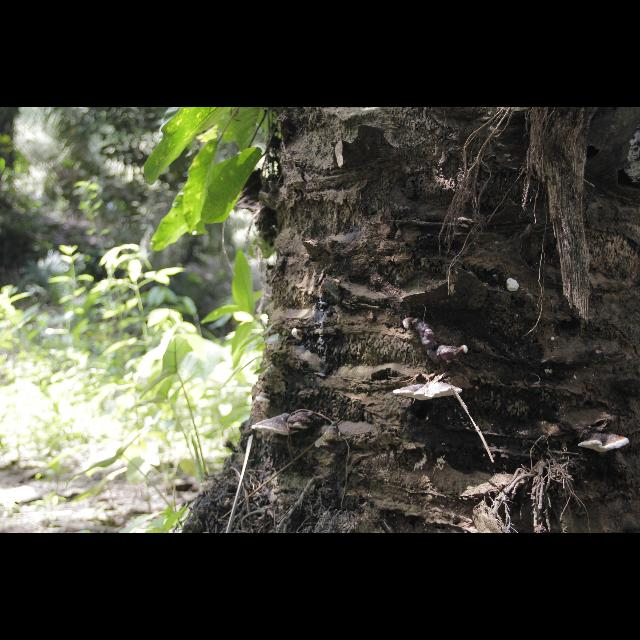ganoderma: (415, 319, 461, 365), (395, 383, 464, 402), (252, 414, 300, 437), (578, 434, 630, 454), (290, 412, 325, 430)
primordium: (507, 280, 520, 293), (293, 329, 306, 341), (404, 318, 414, 330), (223, 441, 233, 449), (462, 347, 468, 356), (552, 338, 556, 342)
